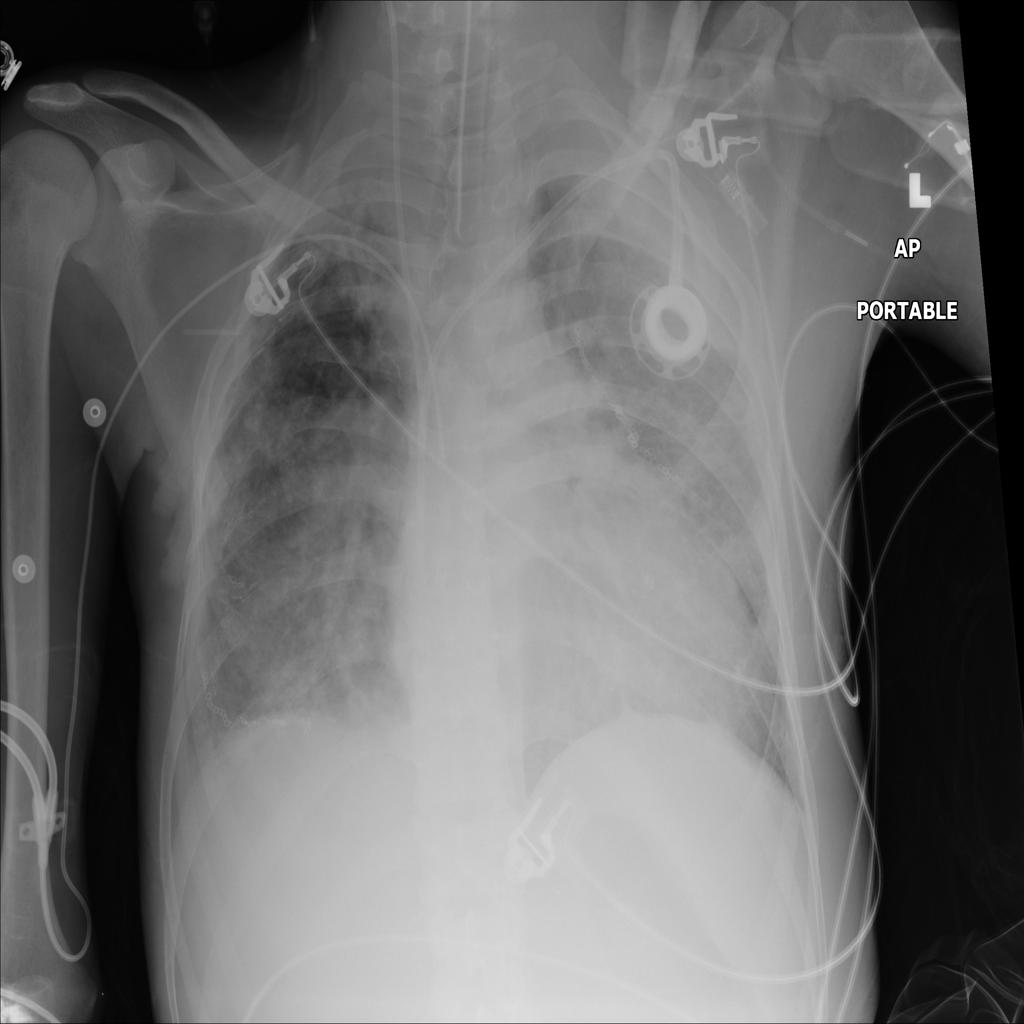Cardiomegaly: (394, 403, 760, 744)
